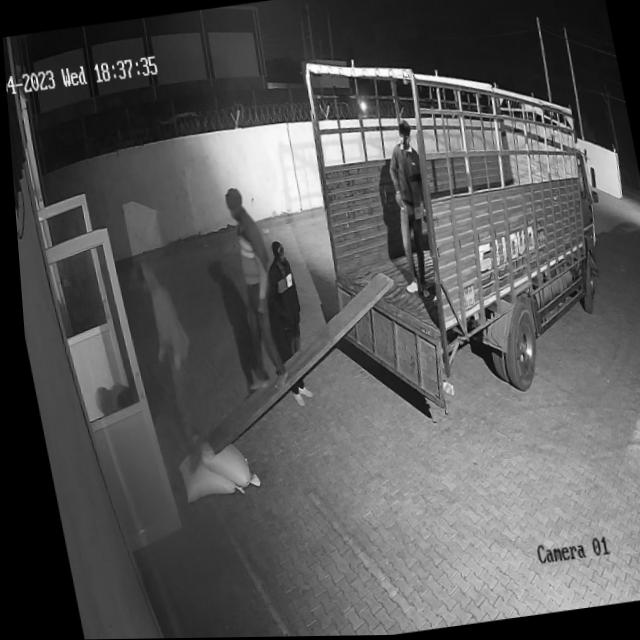sack: (188, 433, 253, 495), (168, 448, 236, 503)
